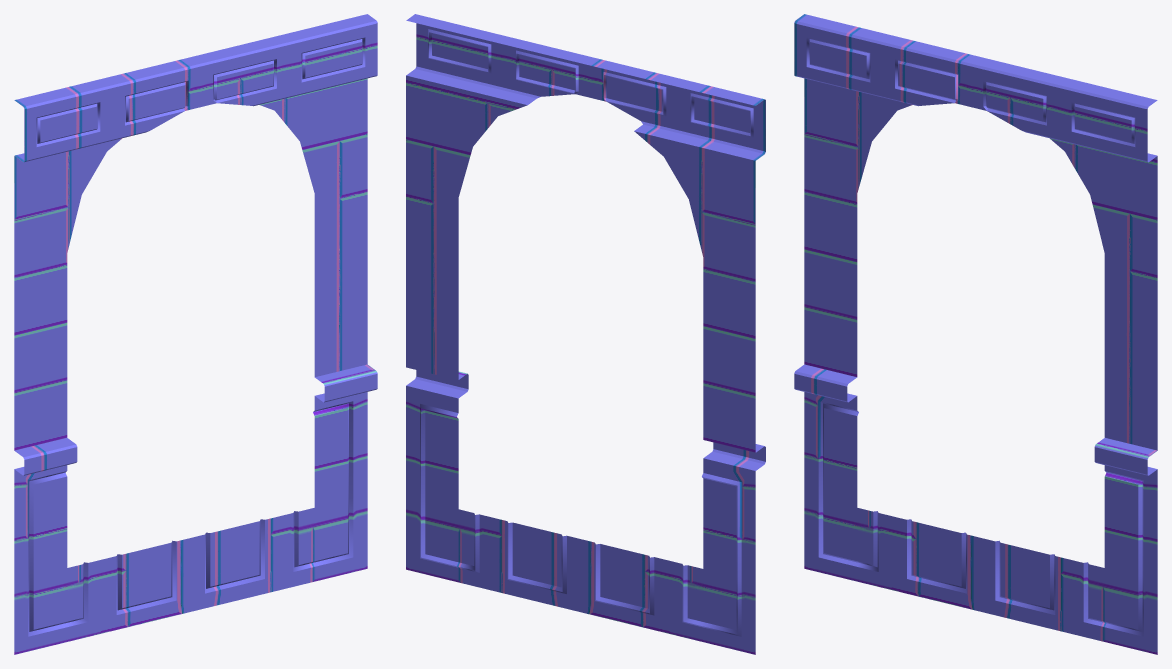
Rendered from Foyer Wall Window Frame.fbx.
3 views of the same model, side by side, from view 1: azimuth 30°, elevation 25°; view 2: azimuth 150°, elevation 25°; view 3: azimuth 330°, elevation 25° (orthographic).
Visible parts, largest first — view 1: Normal_Wall_Window; view 2: Normal_Wall_Window; view 3: Normal_Wall_Window.
Boxes of the visible parts, <box> form: Normal_Wall_Window: <box>14,14,377,654</box>; Normal_Wall_Window: <box>406,14,765,654</box>; Normal_Wall_Window: <box>794,14,1157,654</box>.
Size of the model in its own units: 200 by 300 by 11.67.
